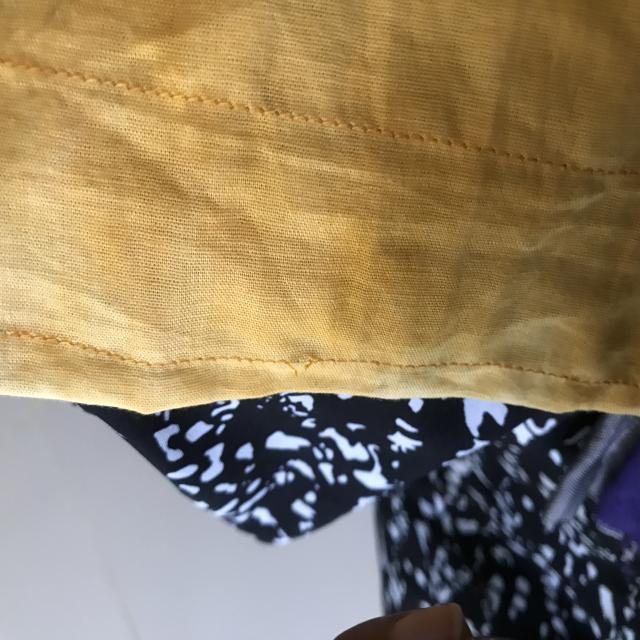broken: (269, 344, 325, 379)
